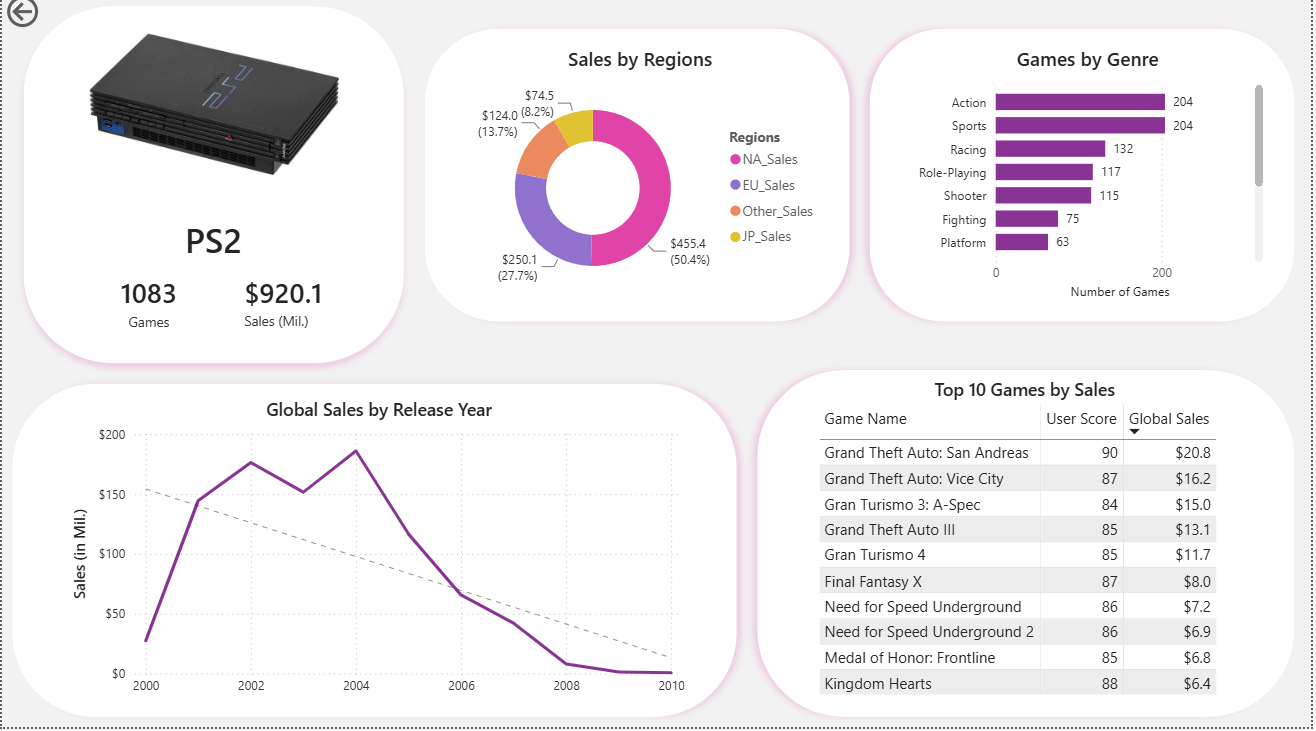

Layout of this report page (visuals, bound fields, positions):
{"tool":"powerbi","page":{"name":"Consoles Details","canvas":[1280,720],"ordinal":1},"visuals":[{"type":"shape","box":[10.9,4.8,392.1,369.2],"z":0,"group":"g1"},{"type":"shape","box":[403,26.5,435.5,306.4],"z":0,"group":"g2"},{"type":"shape","box":[838.5,26.5,435.5,306.4],"z":0,"group":"g3"},{"type":"shape","box":[728.7,360.7,545.3,359.5],"z":0,"group":"g5"},{"type":"shape","box":[0,374,728.7,346.2],"z":0,"group":"g4"},{"type":"group","id":"g1","title":"Intro","box":[10.9,4.8,392.1,369.2],"z":1000},{"type":"image","box":[85.7,15.7,243.7,189.4],"z":1000,"group":"g1"},{"type":"donutChart","title":"Sales by Regions","fields":{"Category":["Fact_Regional_Sales.Regions"],"Y":["Sum(Fact_Regional_Sales.Sales)"]},"box":[439.2,53,368,253.4],"z":1000,"group":"g2"},{"type":"barChart","title":"Games by Genre","fields":{"Category":["Dim_Genre.Genre"],"Y":["Measure Table.Total Number of Games"]},"box":[885.6,53,353.5,253.4],"z":1000,"group":"g3"},{"type":"tableEx","title":"Top 10 Games by Sales","fields":{"Values":["main data query.Name","Sum(main data query.User_Score1)","Measure Table.Total Global Sales"]},"box":[793.8,377.6,413.8,324.5],"z":1000,"group":"g5"},{"type":"lineChart","title":"Global Sales by Release Year","fields":{"Category":["Dim_Year.Year_of_Release"],"Y":["Measure Table.Total Global Sales"]},"box":[65.1,396.9,608,300.4],"z":1000,"group":"g4"},{"type":"group","id":"g2","title":"Sales by reg.","box":[403,26.5,435.5,306.4],"z":2000},{"type":"cardVisual","fields":{"Data":["Min(Image Lookup.Platform)"]},"box":[123.1,205.1,167.7,73.6],"z":2000,"group":"g1"},{"type":"group","id":"g3","title":"Genre","box":[838.5,26.5,435.5,306.4],"z":3000},{"type":"cardVisual","fields":{"Data":["Measure Table.Total Number of Games"]},"box":[80.9,256.9,126.7,95.3],"z":3000,"group":"g1"},{"type":"cardVisual","fields":{"Data":["Measure Table.Total Global Sales"]},"box":[207.5,256.9,137.5,94.1],"z":4000,"group":"g1"},{"type":"group","id":"g4","title":"Line chart","box":[0,374,728.7,346.2],"z":4000},{"type":"group","id":"g5","title":"top 10","box":[728.7,360.7,545.3,359.5],"z":5000},{"type":"actionButton","box":[0,0,44,40.4],"z":5001}]}

Visuals, with their boxes in screenshot pixels (x1, y1, x2, y2), scaled from the page's 1280x720 canvas onto the 1316x731 screenshot:
shape: 11:5:414:380
shape: 414:27:862:338
shape: 862:27:1310:338
shape: 749:366:1310:730
shape: 0:380:749:730
"Intro" group: 11:5:414:380
image: 88:16:339:208
"Sales by Regions" donutChart: 452:54:830:311
"Games by Genre" barChart: 911:54:1274:311
"Top 10 Games by Sales" tableEx: 816:383:1242:713
"Global Sales by Release Year" lineChart: 67:403:692:708
"Sales by reg." group: 414:27:862:338
cardVisual - Min(Image Lookup.Platform): 127:208:299:283
"Genre" group: 862:27:1310:338
cardVisual - Measure Table.Total Number of Games: 83:261:213:358
cardVisual - Measure Table.Total Global Sales: 213:261:355:356
"Line chart" group: 0:380:749:730
"top 10" group: 749:366:1310:730
actionButton: 0:0:45:41
